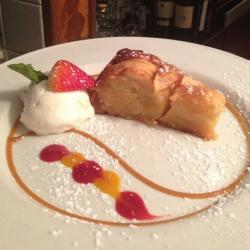apple_pie: (85, 43, 235, 149)
icecream: (19, 73, 97, 140)
